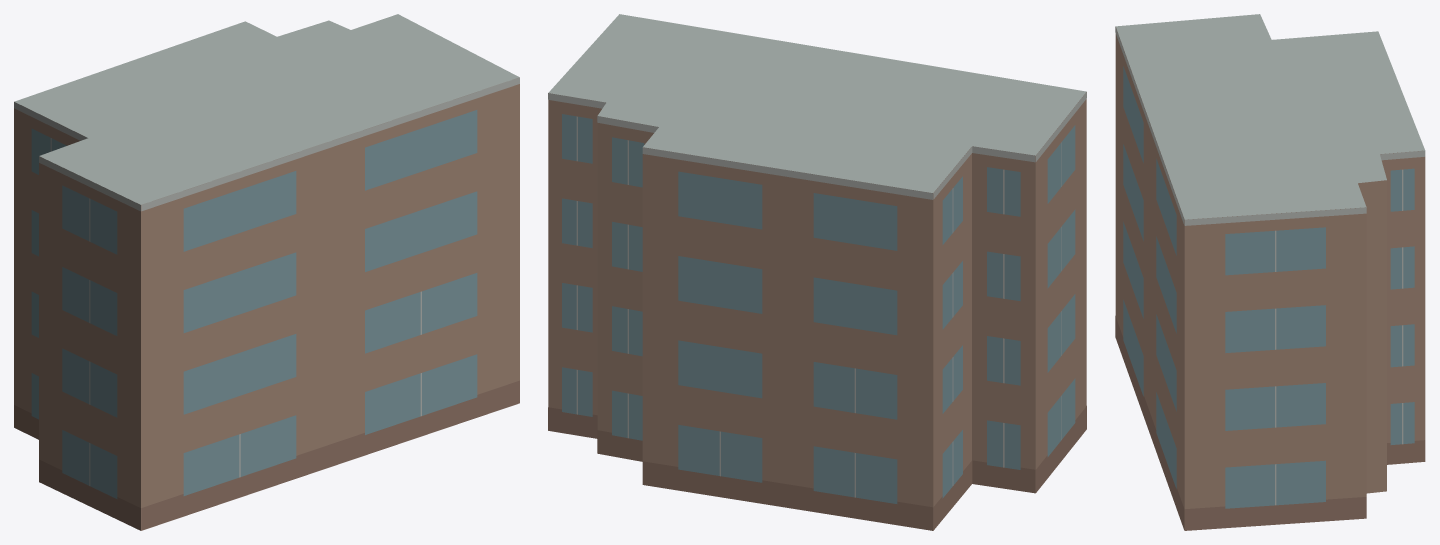
Rendered from survey-upis-32462298.glb.
3 renders of one model, left to right at view 1: azimuth 30°, elevation 25°; view 2: azimuth 150°, elevation 25°; view 3: azimuth 270°, elevation 25°, orthographic. The views are drawn at different scales.
Parts seen in each view (by area): view 1: survey-upis-32462298.tmp; view 2: survey-upis-32462298.tmp; view 3: survey-upis-32462298.tmp.
Boxes of the visible parts, <box> form: survey-upis-32462298.tmp: <box>14,14,519,530</box>; survey-upis-32462298.tmp: <box>548,14,1086,530</box>; survey-upis-32462298.tmp: <box>1115,14,1425,530</box>.
Size of the model in its own units: 17.16 by 12.1 by 10.92.
